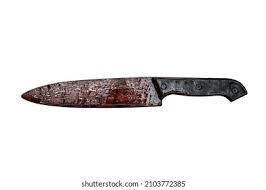Knife: (20, 76, 247, 108)
